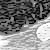node 1: (34, 23, 50, 42)
